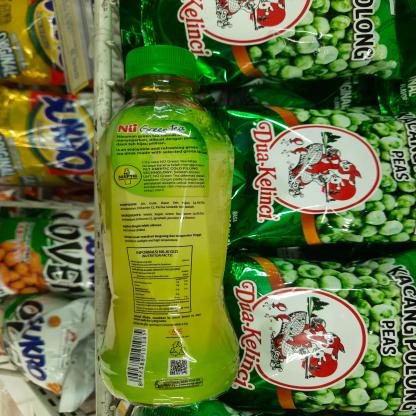bottle: (89, 38, 247, 410)
